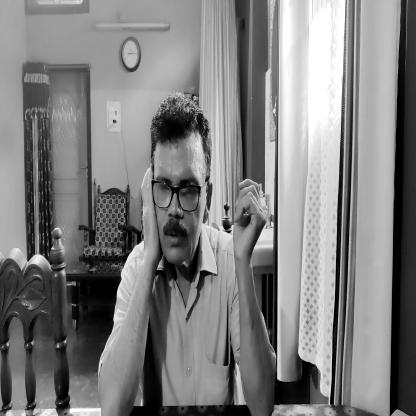Normal: (148, 98, 212, 276)
